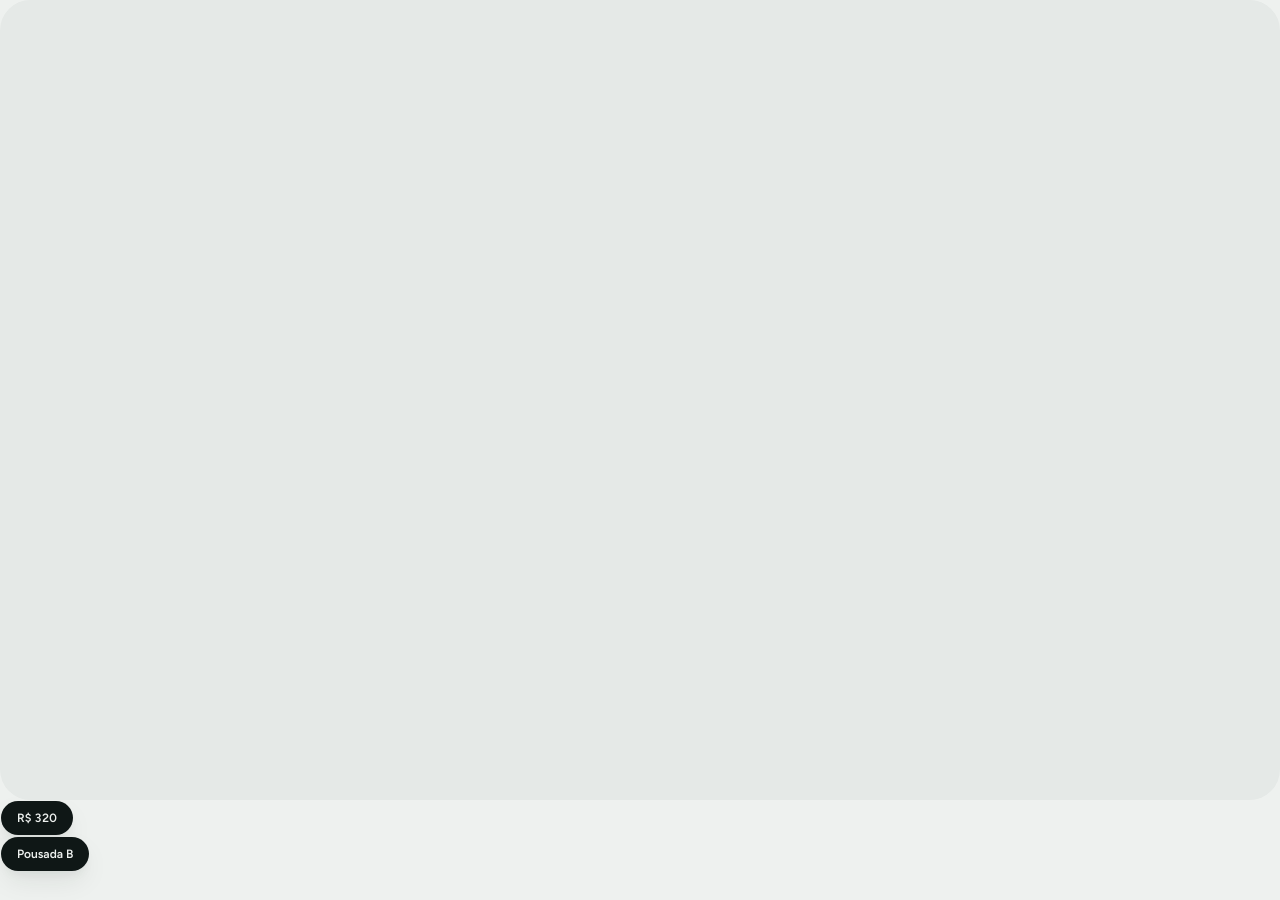
Scenario: PousadasResultsMap (busca) › clicar no alfinete abre o cartão com o link da pousada (com as datas)
Click the button named "Pousada A".
click(37, 818)  # box [0, 800, 74, 836]
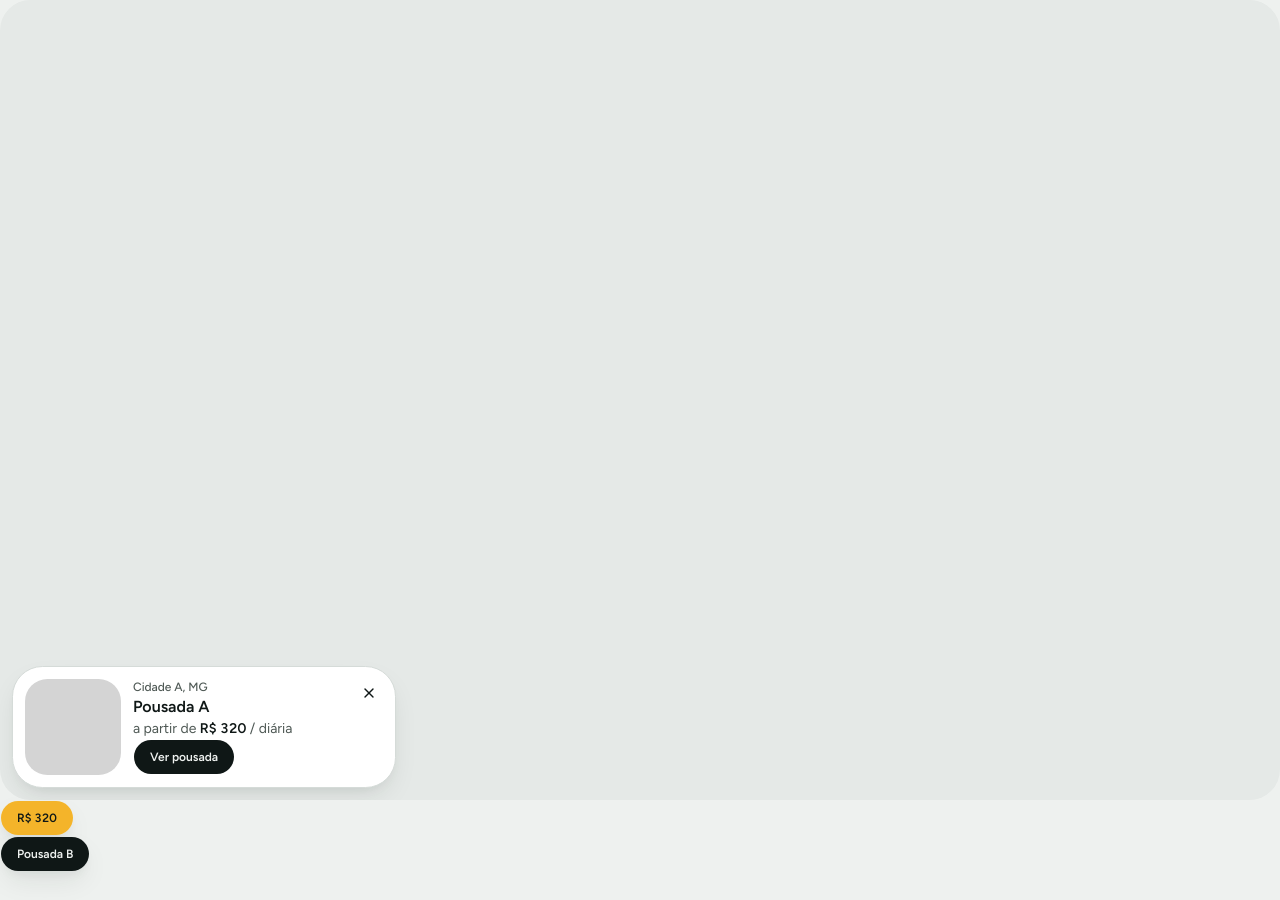
expect the text "a partir de R$ 320 / diária" is shown: met, box [133, 720, 292, 737]
Click the button named "Fechar".
click(369, 693)  # box [355, 679, 383, 707]
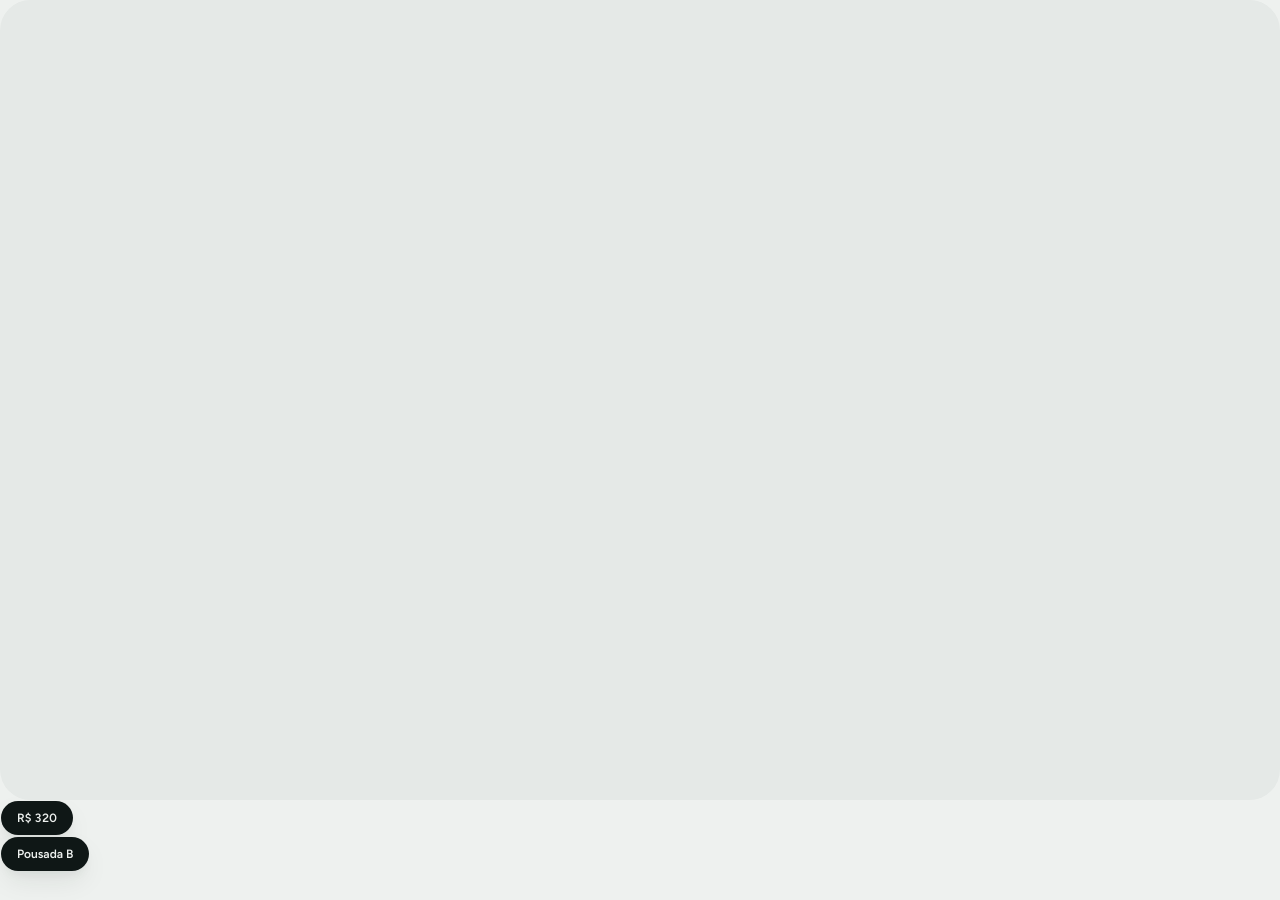
expect the link "Ver pousada" is gone: met
